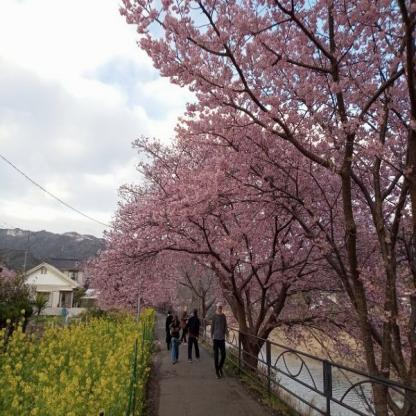KawazuSakura: (78, 0, 416, 322)
